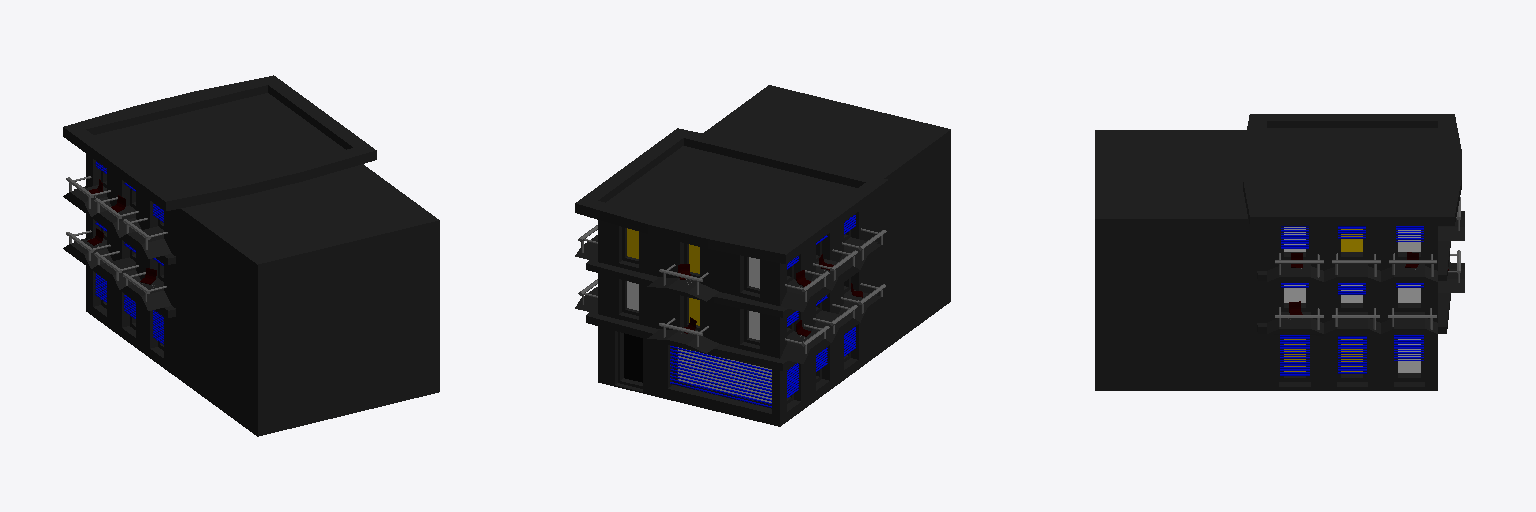
File: balcony-apartment.obj
3 renders of one model, left to right at view 1: azimuth 30°, elevation 25°; view 2: azimuth 150°, elevation 25°; view 3: azimuth 270°, elevation 25°, orthographic.
Parts seen in each view (by area): view 1: ApartmentBuildingBack.001_Cube.073, Cube.045_Cube.072, Cylinder.008_Cylinder.032; view 2: Cube.045_Cube.072, ApartmentBuildingBack.001_Cube.073, Vert.230_Vert.242, Cylinder.008_Cylinder.032; view 3: Cube.045_Cube.072, ApartmentBuildingBack.001_Cube.073, Cylinder.009_Cylinder.033, Vert.229_Vert.241, Vert.228_Vert.240, Vert.227_Vert.239.
Boxes of the visible parts, x1,y1,x2,y2 form: ApartmentBuildingBack.001_Cube.073: [172, 164, 439, 436]; Cube.045_Cube.072: [63, 75, 376, 373]; Cylinder.008_Cylinder.032: [66, 176, 167, 301]; Cube.045_Cube.072: [575, 128, 888, 426]; ApartmentBuildingBack.001_Cube.073: [703, 85, 950, 363]; Vert.230_Vert.242: [670, 346, 771, 407]; Cylinder.008_Cylinder.032: [785, 228, 886, 353]; Cube.045_Cube.072: [1243, 114, 1464, 390]; ApartmentBuildingBack.001_Cube.073: [1095, 130, 1266, 390]; Cylinder.009_Cylinder.033: [1275, 253, 1436, 329]; Vert.229_Vert.241: [1280, 335, 1309, 375]; Vert.228_Vert.240: [1338, 336, 1366, 373]; Vert.227_Vert.239: [1394, 335, 1423, 360].
Size of the model in its own units: 14.62 by 11.1 by 20.47.